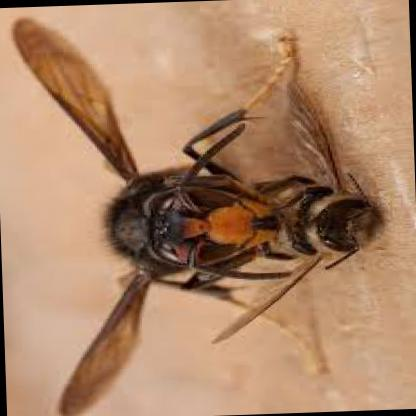asian: (27, 12, 266, 415)
